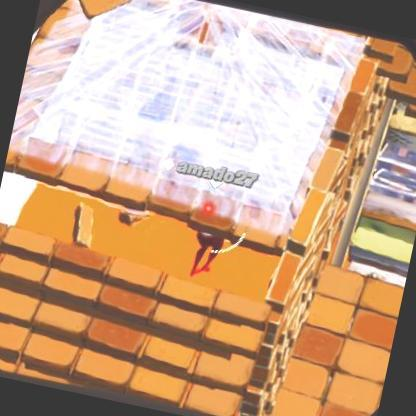person: (182, 193, 237, 287)
